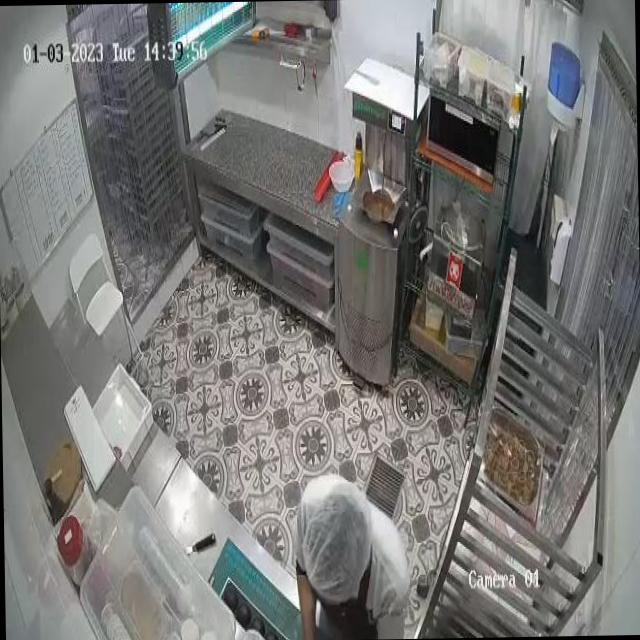hairnet: (302, 484, 368, 590)
